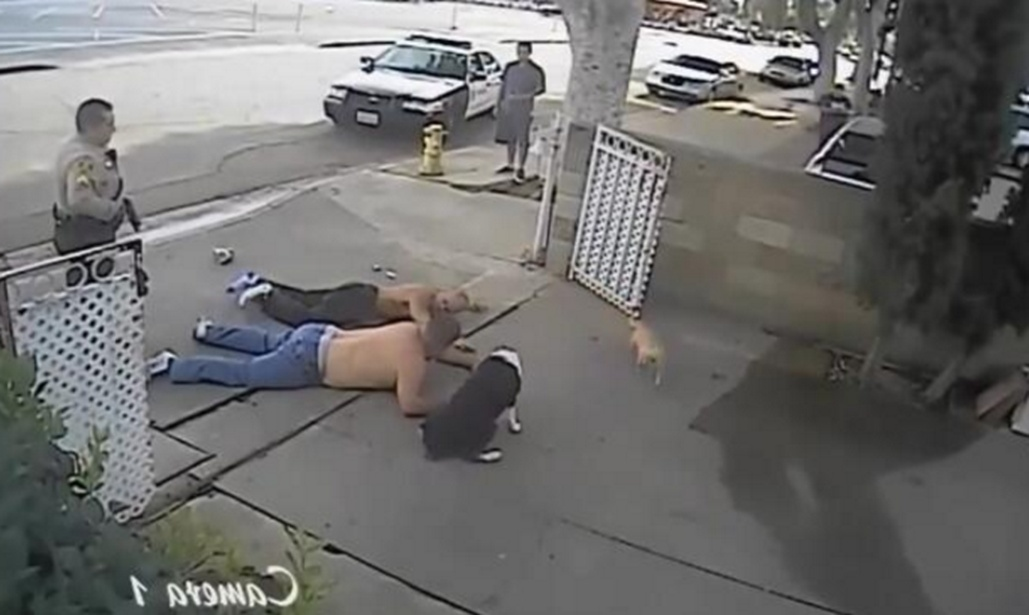falling: (206, 255, 473, 341)
